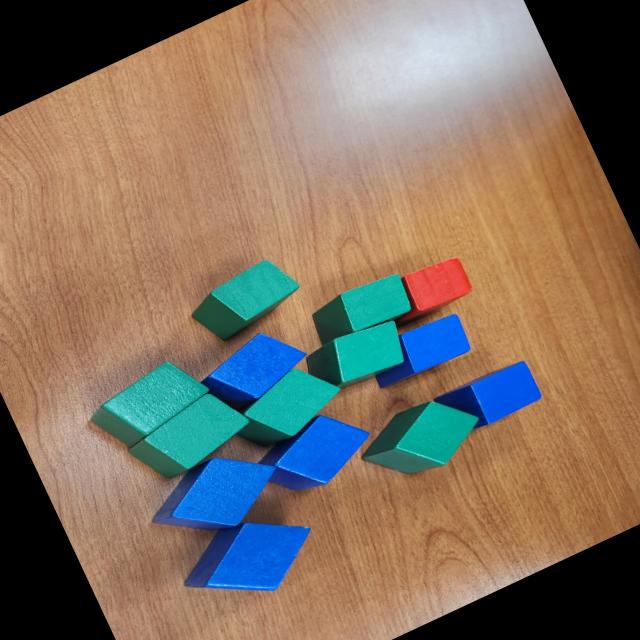blue: (168, 494, 328, 626), (136, 434, 292, 560), (249, 398, 383, 508), (192, 320, 318, 422), (428, 355, 545, 445), (360, 308, 474, 392)
green: (349, 380, 494, 500), (119, 381, 258, 491), (81, 350, 218, 457), (218, 352, 352, 461), (181, 250, 309, 351), (300, 310, 413, 402), (306, 266, 419, 352)
red: (383, 250, 478, 326)
